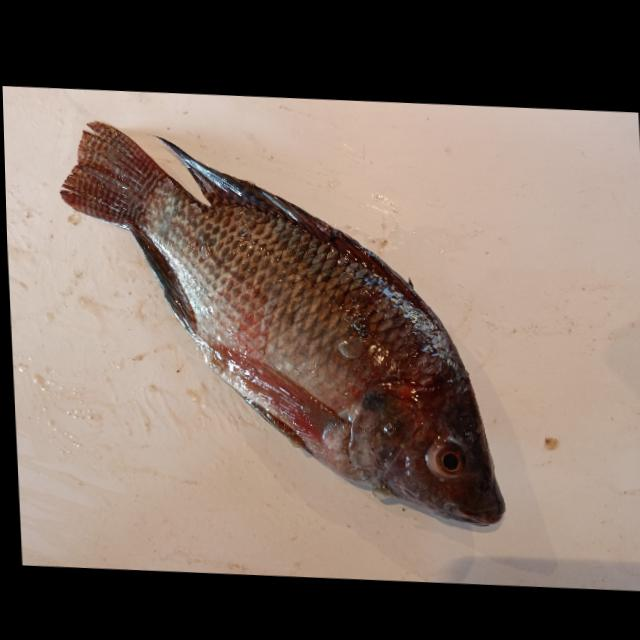Tilapia: (55, 111, 506, 541)
